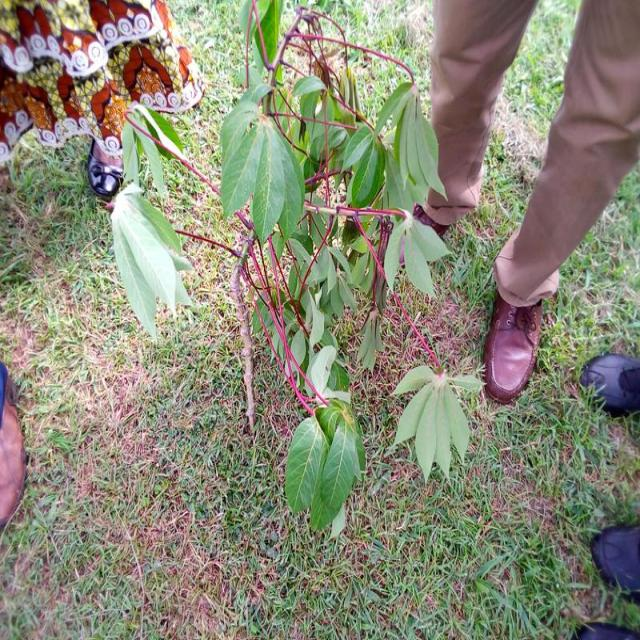cassava leaf: (220, 84, 306, 245), (110, 180, 194, 340), (392, 362, 484, 484), (285, 399, 365, 536)
